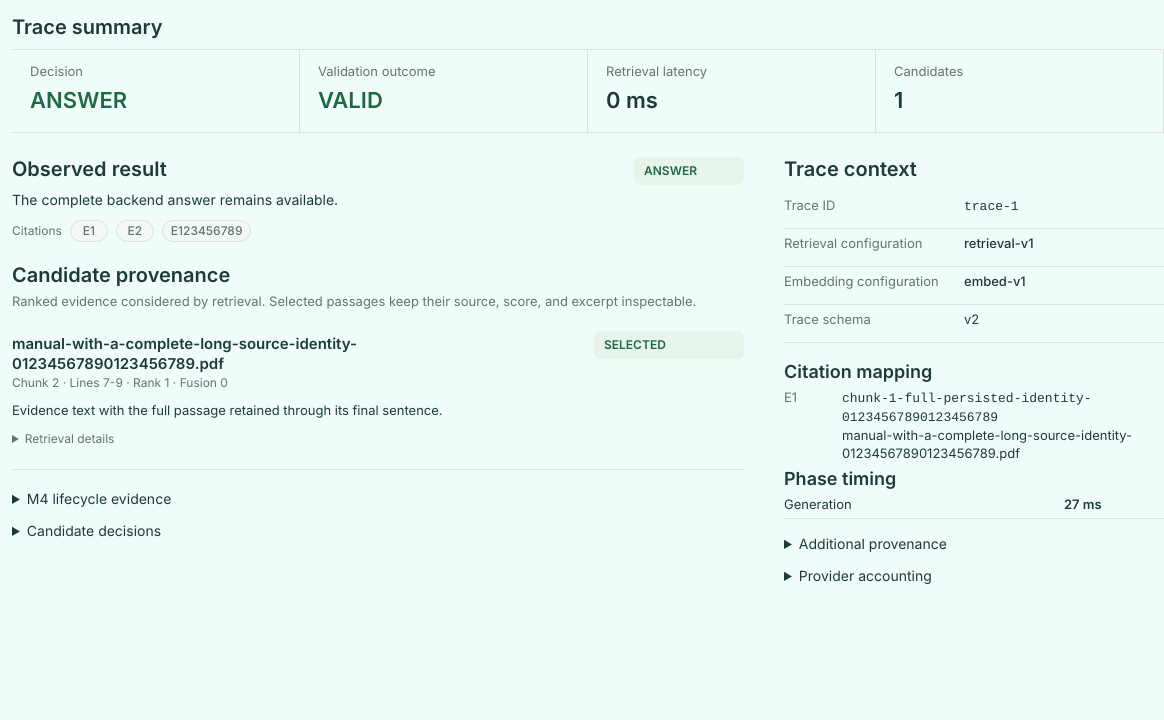
it: operator views › keeps full candidate evidence and both retrieval branches inspectable
This screenshot has width=1164, height=720.
Check: the text "manual-with-a-complete-long-source-identity-01234567890123456789.pdf" below "Candidate provenance" is shown, box [12, 334, 357, 373]
Check: the text "0 ms" is shown, box [606, 88, 658, 114]
Click the heading "Retrieval details" at (70, 438), box [25, 431, 114, 446]
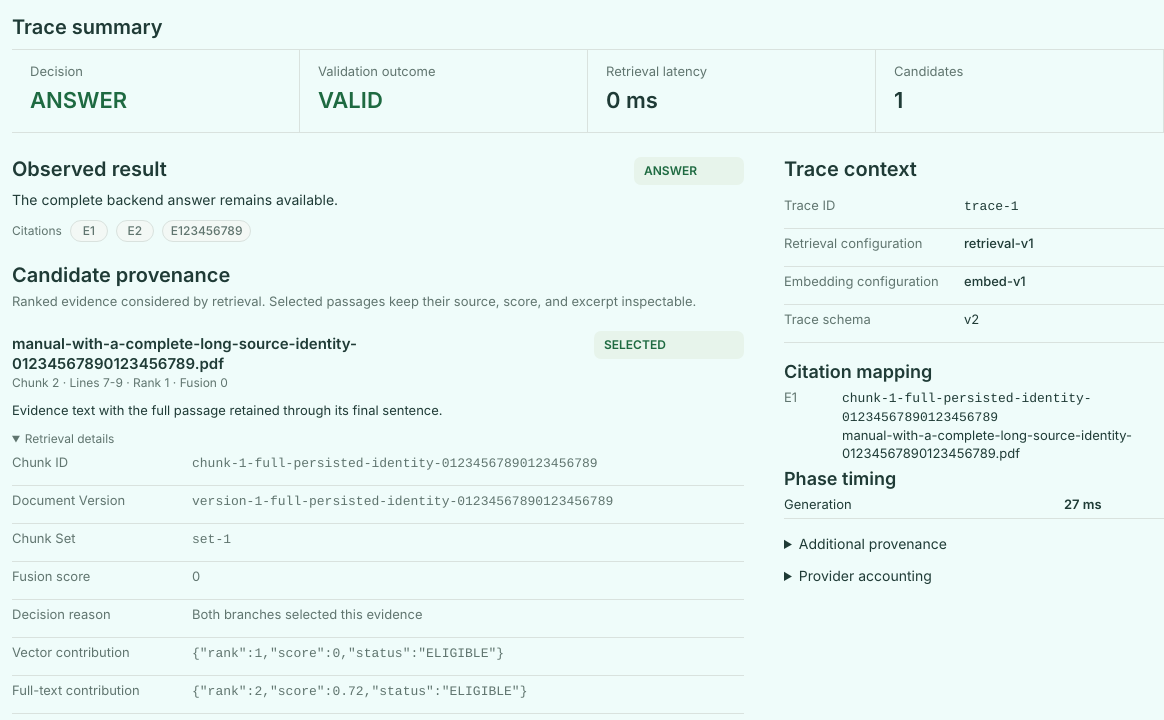
Check: the text "chunk-1-full-persisted-identity-01234567890123456789" next to "Chunk ID" is shown, box [192, 456, 598, 471]
Check: the text "version-1-full-persisted-identity-01234567890123456789" is shown, box [192, 494, 613, 509]
Check: the text "set-1" is shown, box [192, 532, 231, 547]
